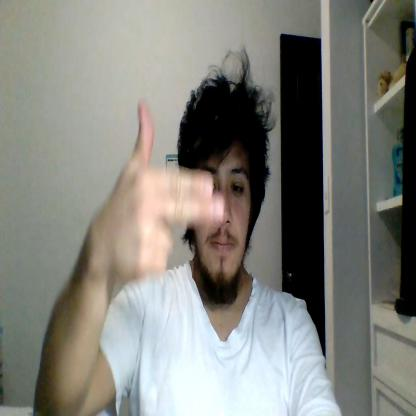H: (111, 96, 225, 280)
